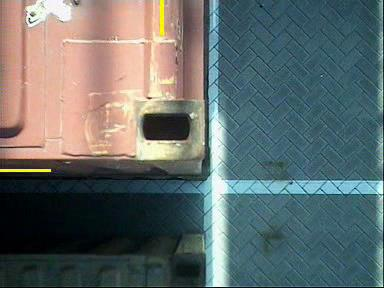groundmarker_2: (1, 1, 109, 95)
